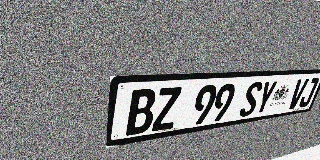9: (190, 84, 219, 125), (210, 83, 237, 122)
B: (126, 88, 157, 136)
J: (297, 78, 320, 108)
S: (238, 81, 264, 118)
V: (286, 78, 309, 110)
Y: (253, 80, 278, 115)
Z: (152, 87, 182, 132)
